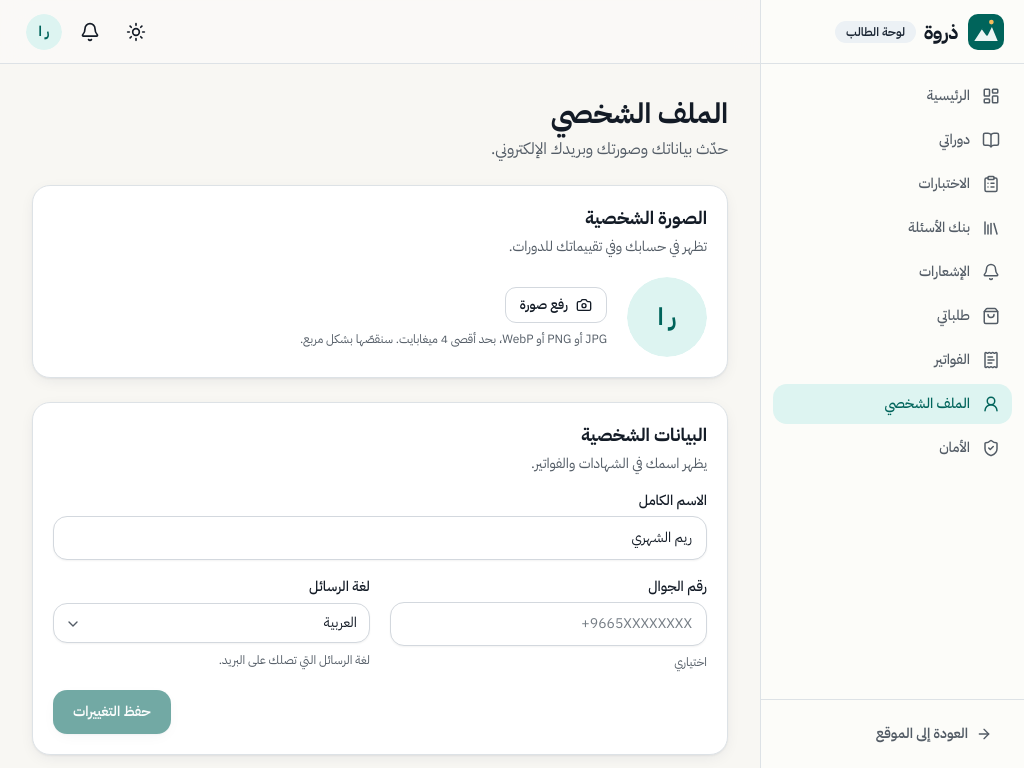
Test: profile page › shows server validation errors for the phone number
In the field labelled "رقم الجوال": (548, 624) [390,602,707,646], type "+966500000001"
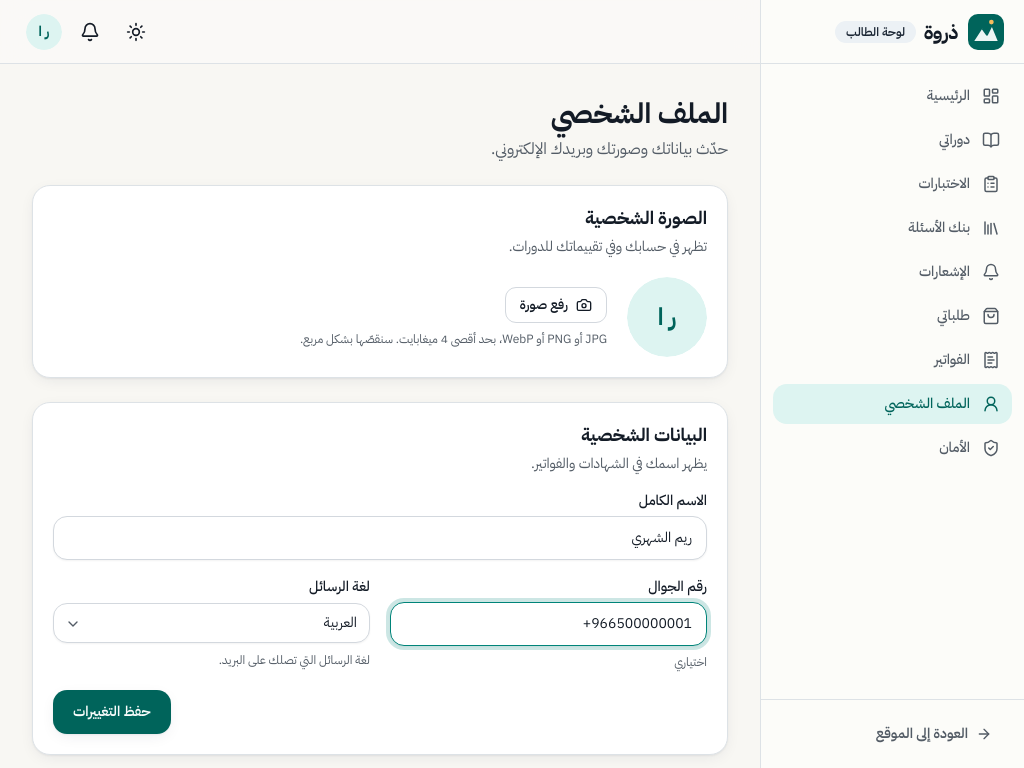
Click the button "حفظ التغييرات": (112, 712) [53,690,170,734]
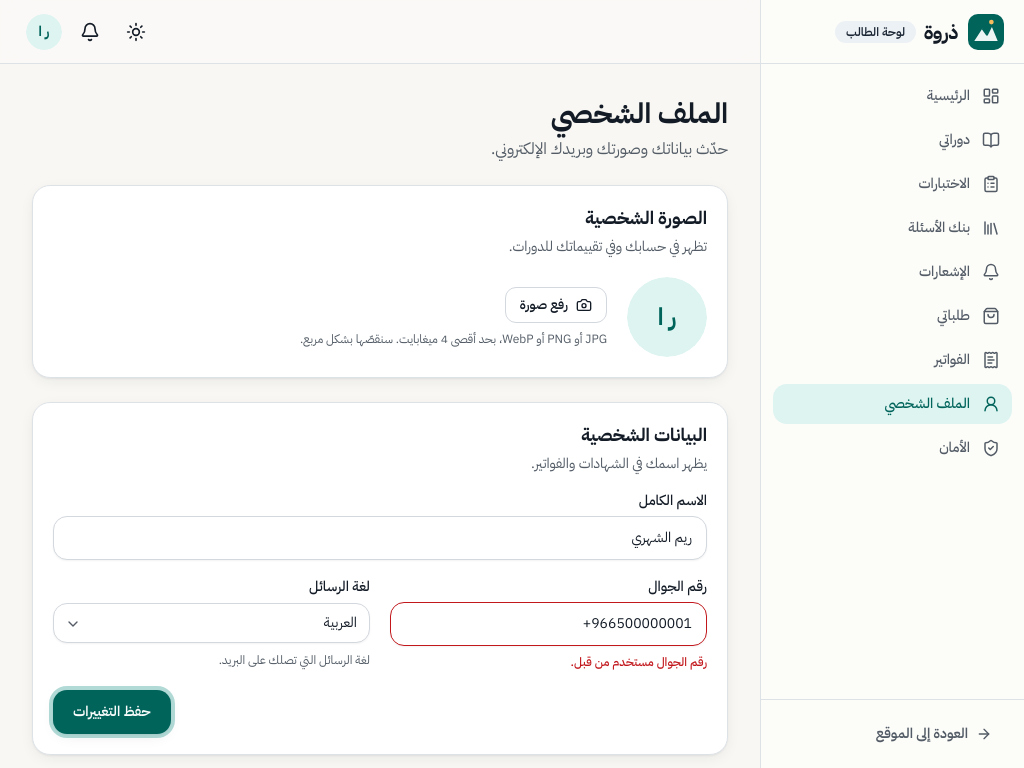
Check: the text "رقم الجوال مستخدم من قبل." is shown, box [570,653,707,671]
